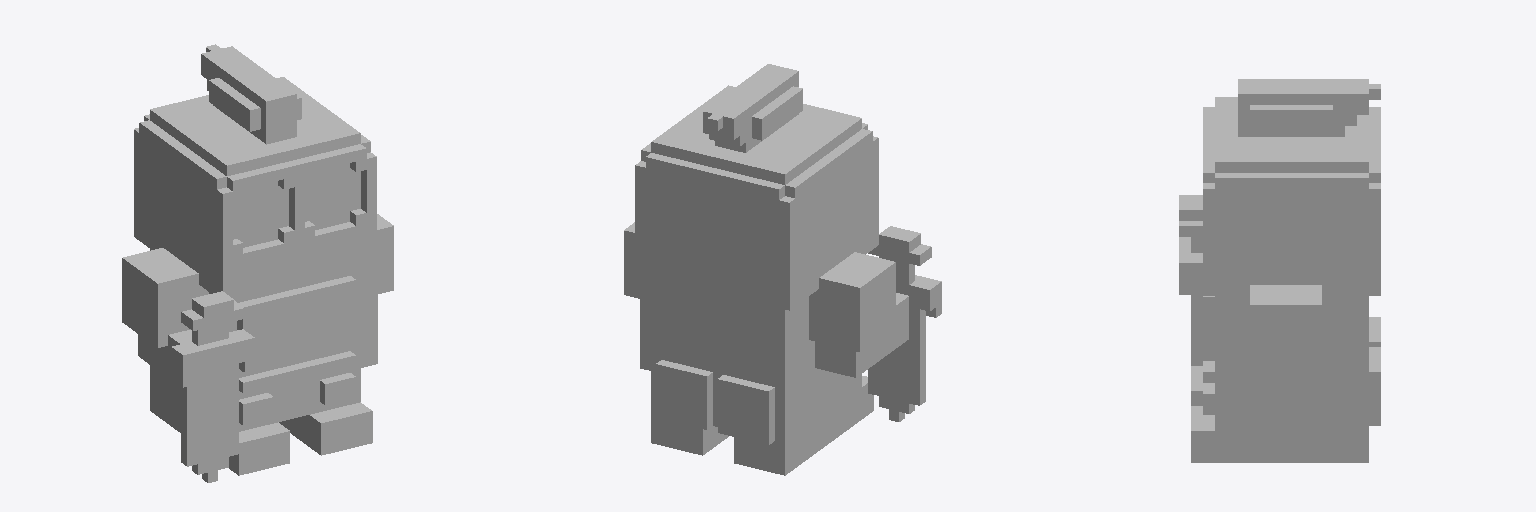
The model's file is Package 01 Necro Dungeon-17.obj.
3 renders of one model, left to right at view 1: azimuth 30°, elevation 25°; view 2: azimuth 150°, elevation 25°; view 3: azimuth 270°, elevation 25°, orthographic.
Parts seen in each view (by area): view 1: object 1; view 2: object 1; view 3: object 1.
Boxes of the visible parts, <box> form: object 1: <box>122,44,393,482</box>; object 1: <box>624,64,941,475</box>; object 1: <box>1179,79,1380,462</box>.
Bounding box in the file's own units: 2.4 × 3.2 × 1.7.